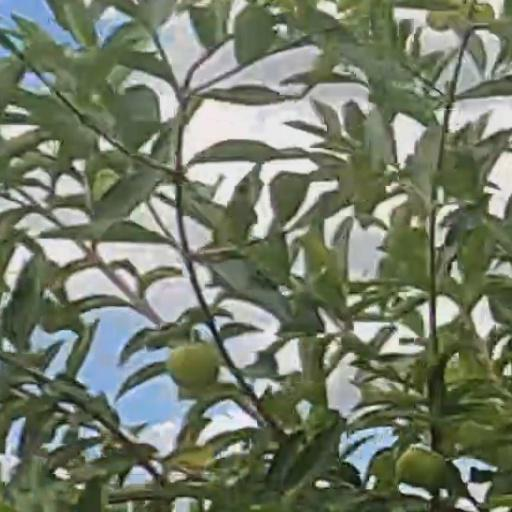acerola: (397, 448, 442, 486), (172, 345, 218, 381)
